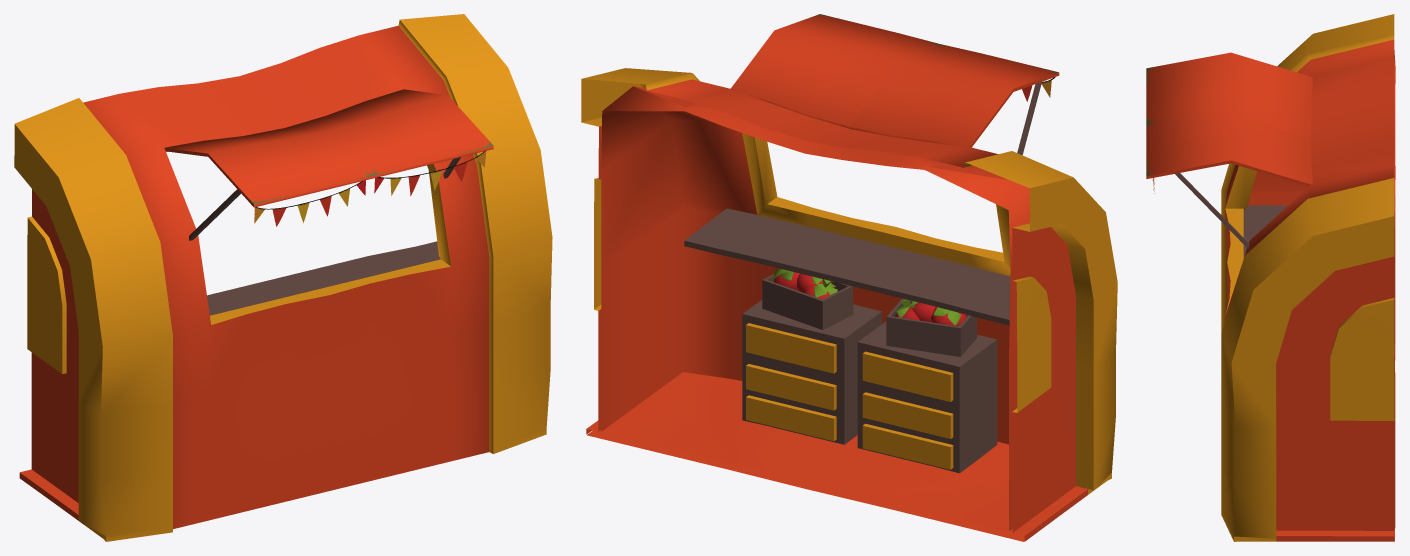
Rendered from hotdog_trailer.fbx.
The picture shows the model from 3 angles, left to right: view 1: azimuth 30°, elevation 25°; view 2: azimuth 150°, elevation 25°; view 3: azimuth 270°, elevation 25°; orthographic projection. The views are drawn at different scales.
Visible parts, largest first — view 1: trailer; view 2: trailer, box, tomatenkiste; view 3: trailer, stick.
Part boxes in pixels (<box>): trailer: <box>14,14,552,541</box>; trailer: <box>581,14,1117,541</box>; box: <box>742,300,997,473</box>; tomatenkiste: <box>762,269,976,356</box>; trailer: <box>1146,14,1395,541</box>; stick: <box>1175,173,1249,248</box>.
Bounding box in the file's own units: 143 × 111 × 74.6.
6 materials, 1 textured.
